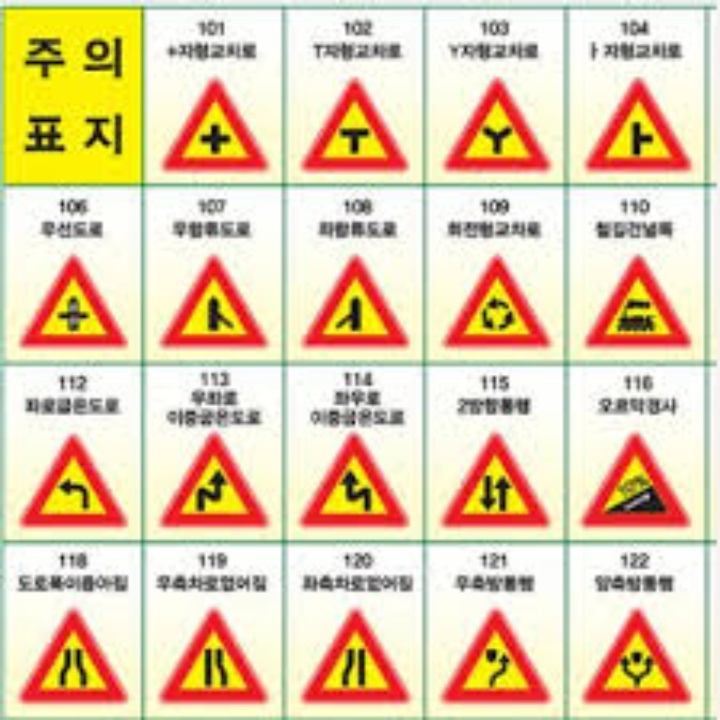inter: (194, 119, 235, 156)
left: (52, 475, 95, 515)
